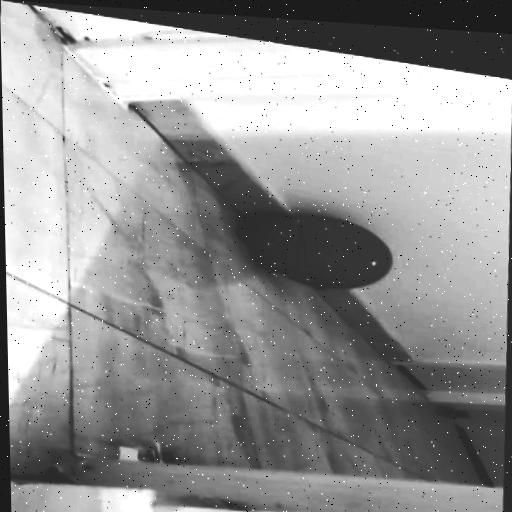balloon: (246, 194, 411, 301)
